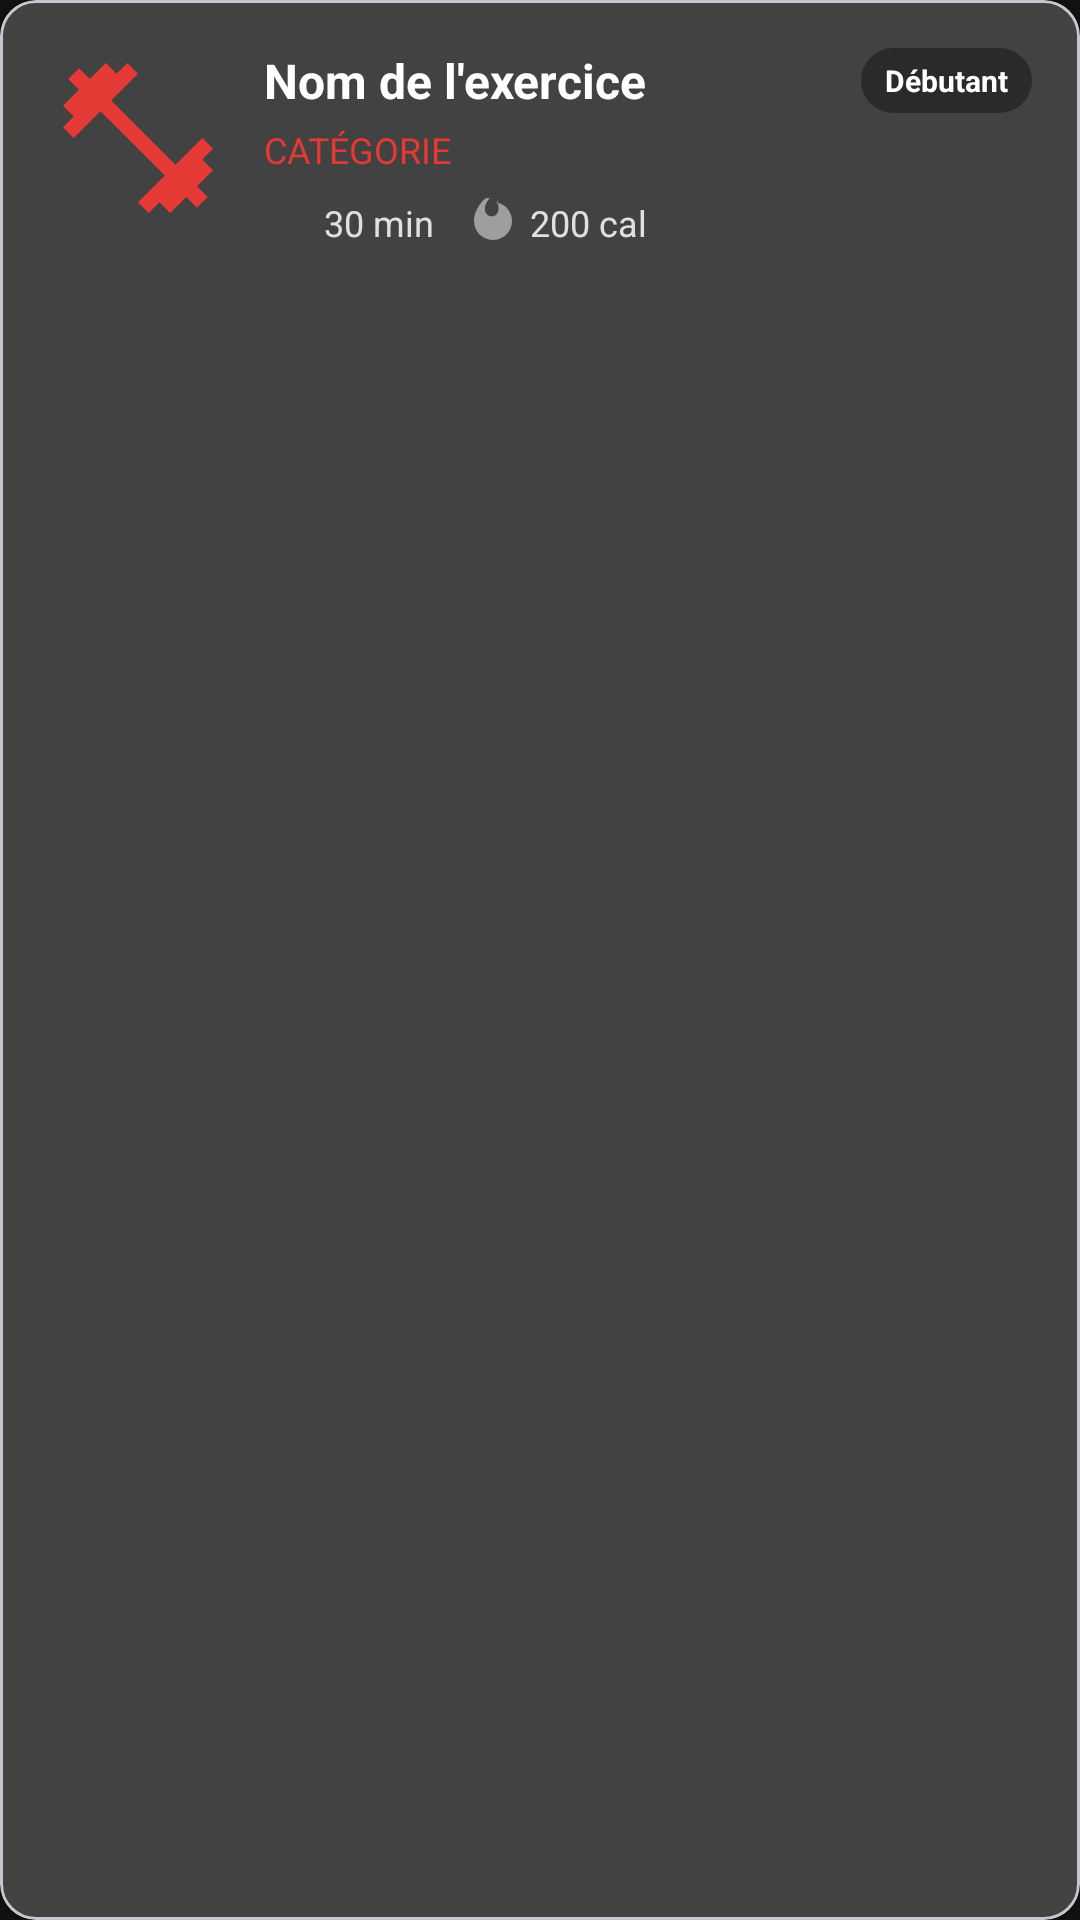

Screen size 1080w x 1920h. Icon name, then its center in pixels as (x,y):
exercise: (138,138)
